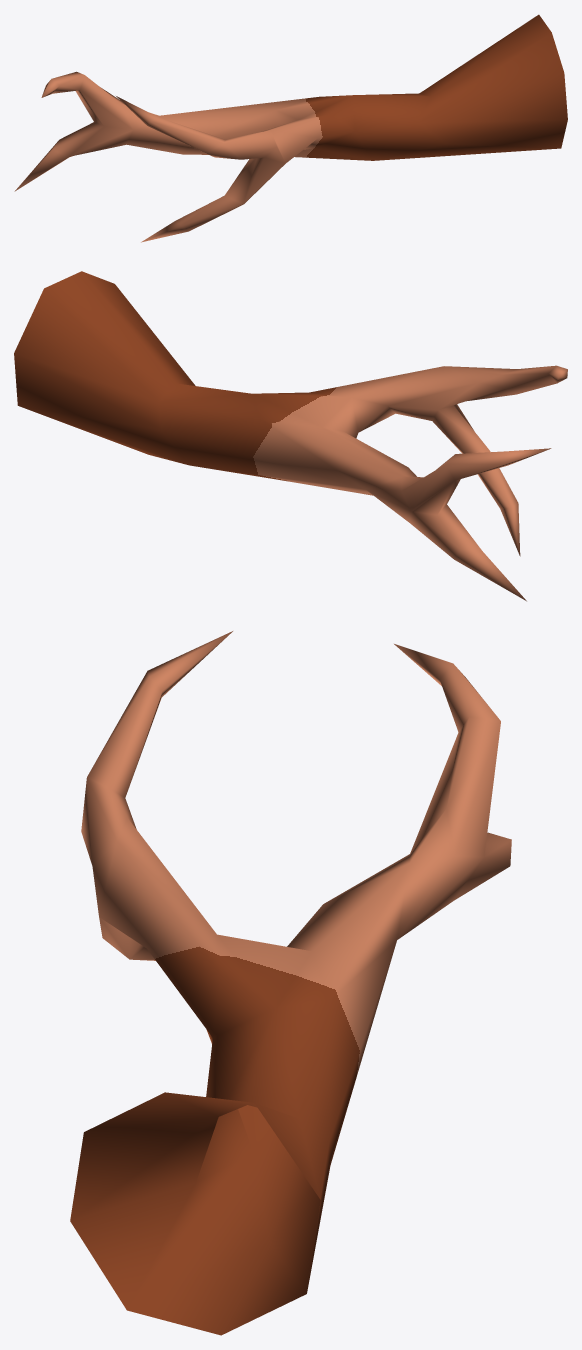
Rendered from branch.obj.
3 renders of one model, top to bottom at view 1: azimuth 30°, elevation 25°; view 2: azimuth 150°, elevation 25°; view 3: azimuth 270°, elevation 25°, orthographic. The views are drawn at different scales.
Parts seen in each view (by area): view 1: Tree.031_Circle.021; view 2: Tree.031_Circle.021; view 3: Tree.031_Circle.021.
Boxes of the visible parts, x1,y1,x2,y2 form: Tree.031_Circle.021: [14, 14, 567, 242]; Tree.031_Circle.021: [14, 271, 567, 601]; Tree.031_Circle.021: [70, 631, 511, 1335].
Bounding box in the file's own units: 4.84 × 1.53 × 1.95.
1 material, 1 textured.
